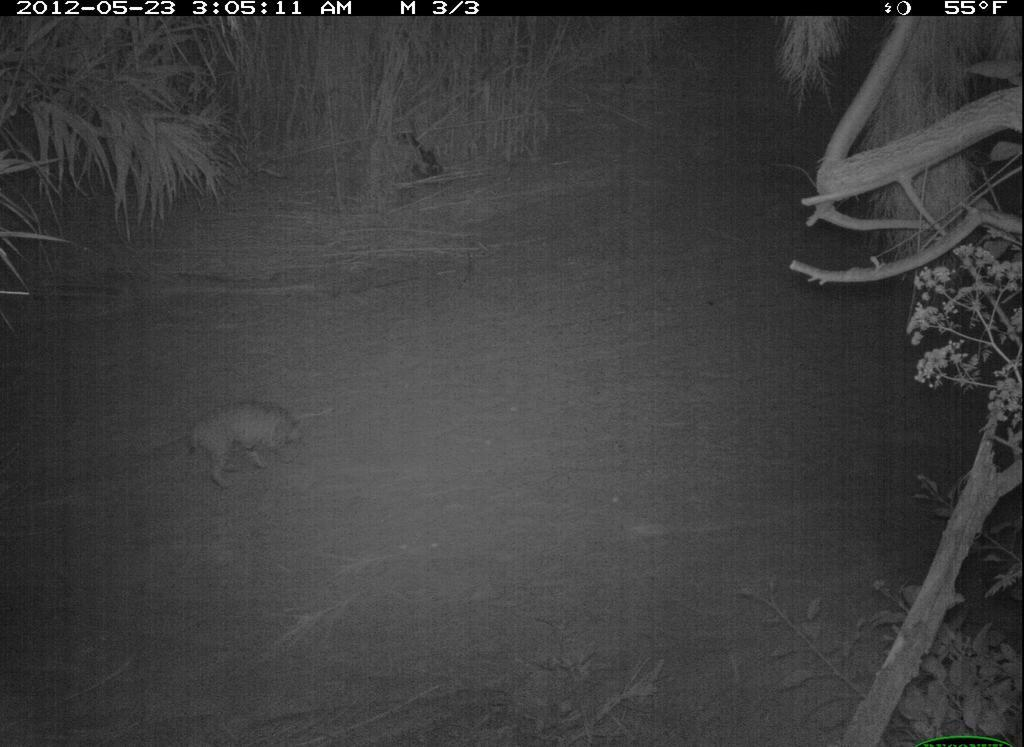bobcat: (186, 393, 312, 497)
